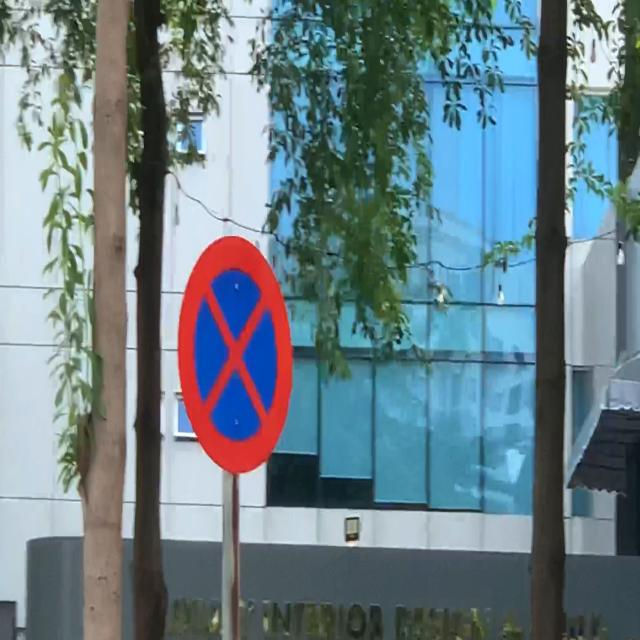Cam dung va do: (174, 223, 298, 488)
